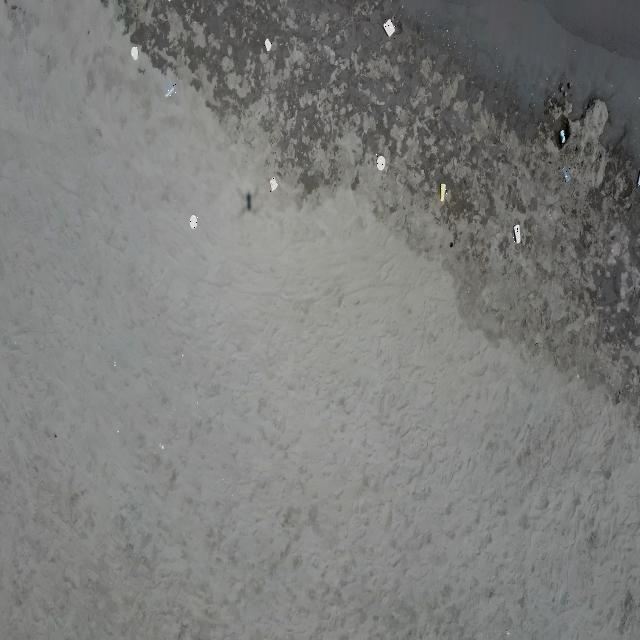take-away-containers: (383, 17, 396, 39), (376, 154, 386, 172), (188, 215, 198, 229), (270, 176, 278, 192), (264, 38, 272, 52), (131, 46, 139, 60)
takeaway-cup: (513, 224, 522, 245), (164, 84, 176, 99), (562, 165, 571, 184), (439, 184, 447, 204), (559, 128, 566, 145)
